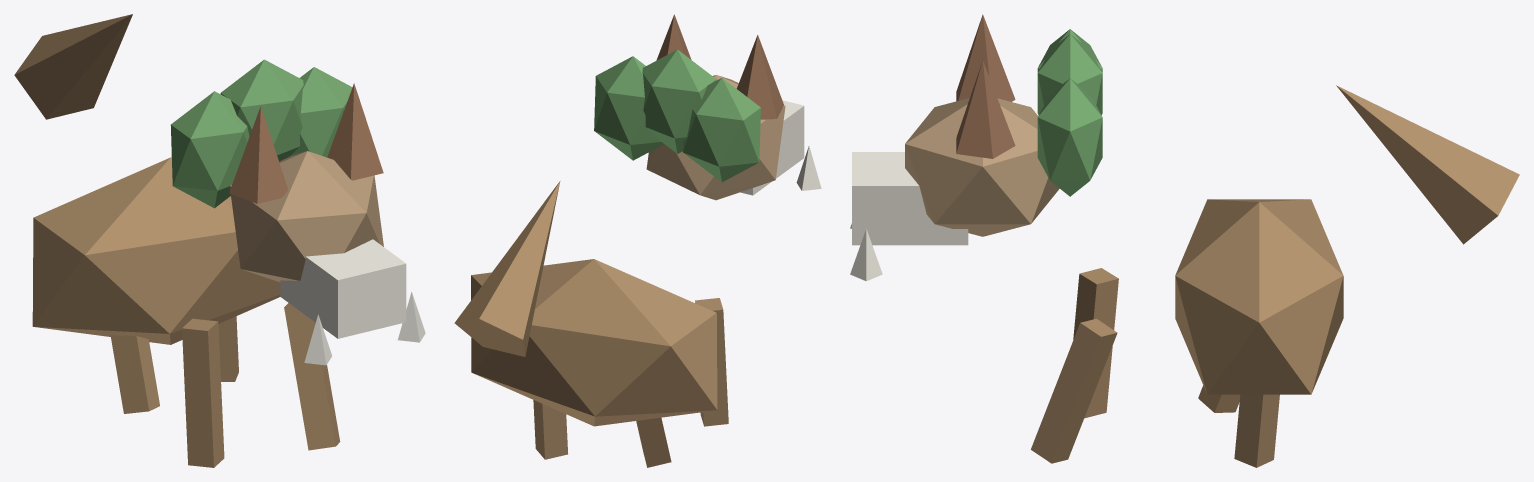
File: npcpose_wolf_walk_02.glb
The picture shows the model from 3 angles, left to right: view 1: azimuth 30°, elevation 25°; view 2: azimuth 150°, elevation 25°; view 3: azimuth 270°, elevation 25°; orthographic projection. The views are drawn at different scales.
Parts seen in each view (by area): view 1: npcpose; view 2: npcpose; view 3: npcpose.
Part boxes in pixels (box(x1,y1,x2,y2)): npcpose: box(14, 14, 425, 467); npcpose: box(454, 14, 821, 467); npcpose: box(850, 14, 1519, 467).
Size of the model in its own units: 0.8873 by 1.22 by 1.84.
